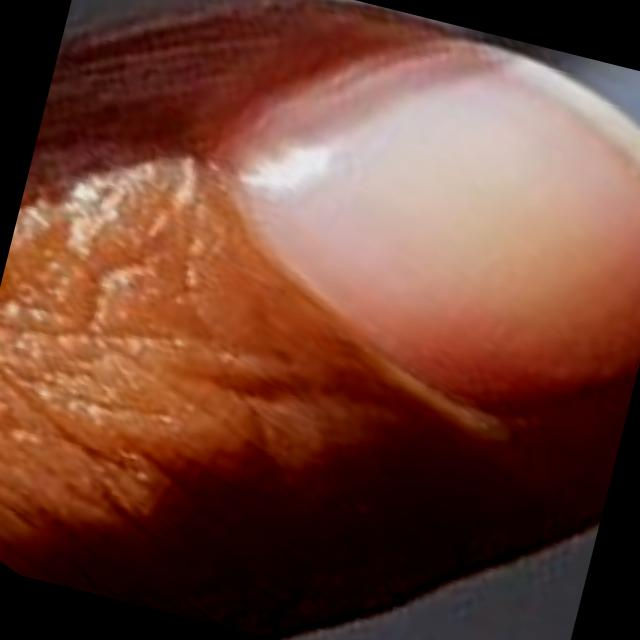Nail: (220, 45, 640, 413)
